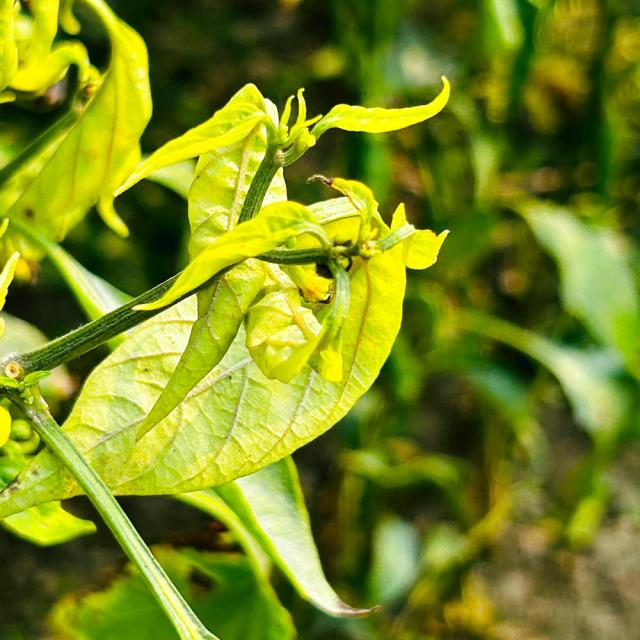Chilli_Leaf_Curl: (1, 74, 452, 537), (0, 0, 153, 287)
